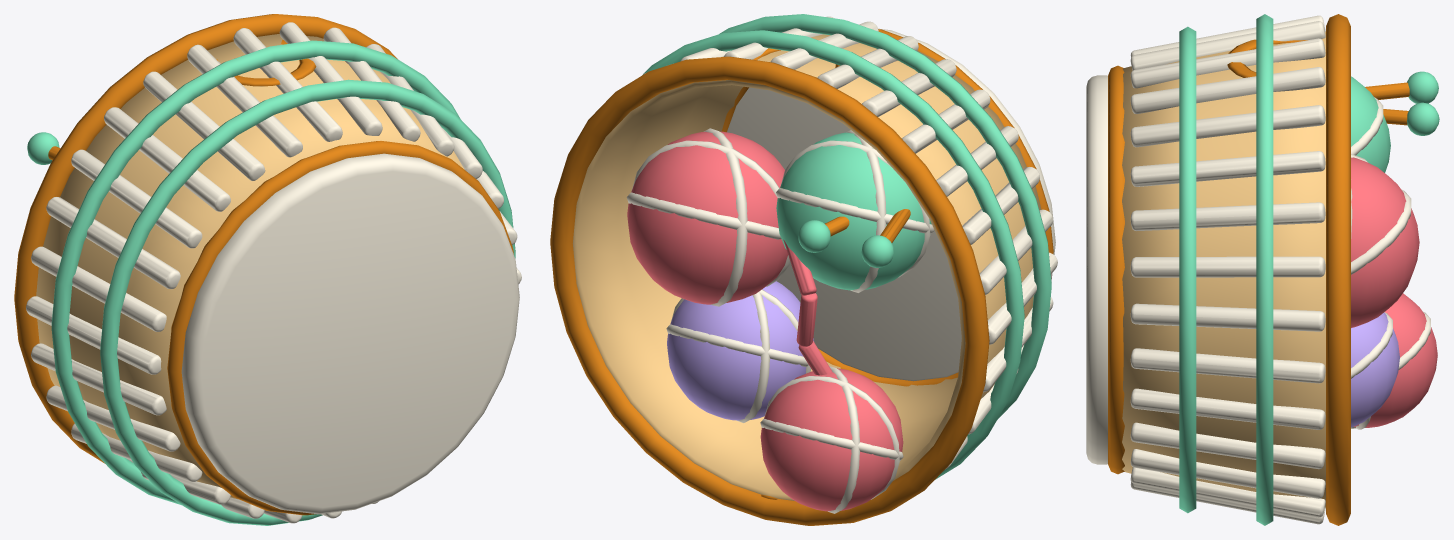
Rendered from BedroomYarnBasket_Premium.fbx.
The picture shows the model from 3 angles, left to right: view 1: azimuth 30°, elevation 25°; view 2: azimuth 150°, elevation 25°; view 3: azimuth 270°, elevation 25°; orthographic projection.
Parts seen in each view (by area): view 1: BedroomYarnBasket; view 2: BedroomYarnBasket; view 3: BedroomYarnBasket.
Part boxes in pixels (bbox=[...]): BedroomYarnBasket: bbox=[14, 14, 521, 525]; BedroomYarnBasket: bbox=[550, 14, 1057, 525]; BedroomYarnBasket: bbox=[1086, 14, 1439, 525].
Bounding box in the file's own units: 0.732 × 0.732 × 0.5045.
